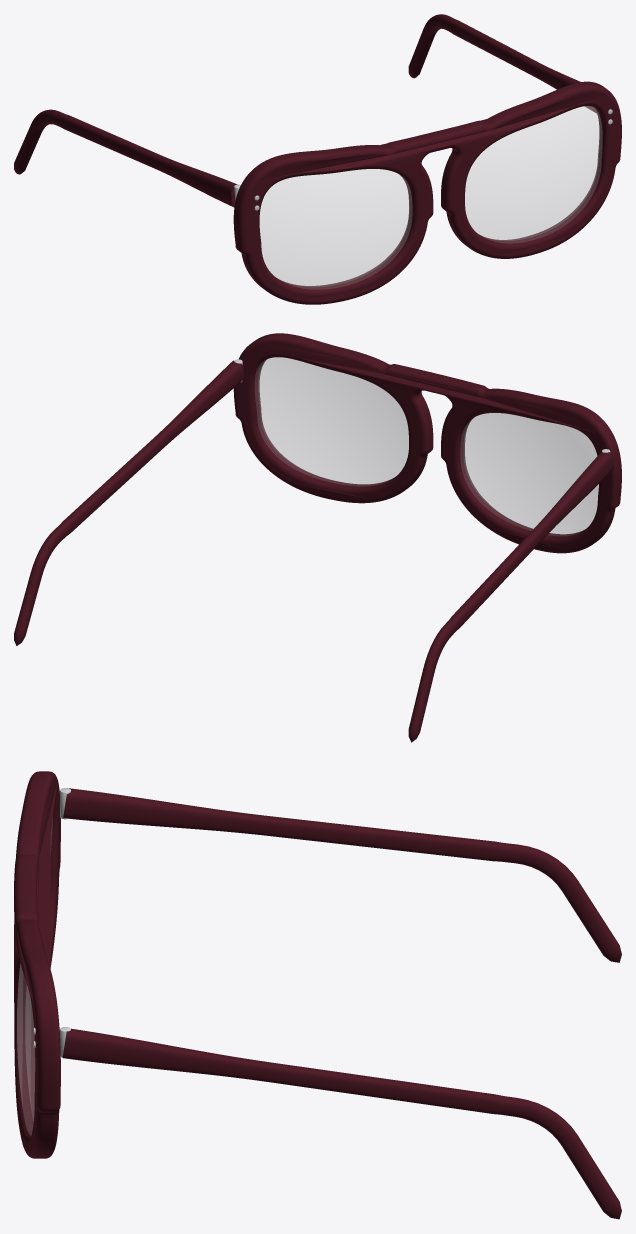
Rendered from iris-s.glb.
3 renders of one model, top to bottom at view 1: azimuth 30°, elevation 25°; view 2: azimuth 150°, elevation 25°; view 3: azimuth 270°, elevation 25°, orthographic. The views are drawn at different scales.
Visible parts, largest first — view 1: Front, Lens_R, Lens_L, Temple_R, Temple_L; view 2: Front, Lens_L, Lens_R, Temple_L, Temple_R; view 3: Front, Temple_L, Temple_R, Lens_L.
Boxes of the visible parts, bbox=[...] form: Front: bbox=[233, 81, 621, 304]; Lens_R: bbox=[260, 169, 412, 289]; Lens_L: bbox=[465, 106, 602, 243]; Temple_R: bbox=[14, 109, 237, 207]; Temple_L: bbox=[408, 14, 596, 113]; Front: bbox=[233, 333, 621, 553]; Lens_L: bbox=[255, 357, 408, 486]; Lens_R: bbox=[460, 413, 598, 535]; Temple_L: bbox=[14, 360, 243, 645]; Temple_R: bbox=[408, 452, 613, 742]; Front: bbox=[14, 771, 70, 1158]; Temple_L: bbox=[62, 1028, 621, 1219]; Temple_R: bbox=[63, 788, 621, 962]; Lens_L: bbox=[17, 964, 34, 1134].
Bounding box in the file's own units: 0.1346 × 0.0523 × 0.1319.
